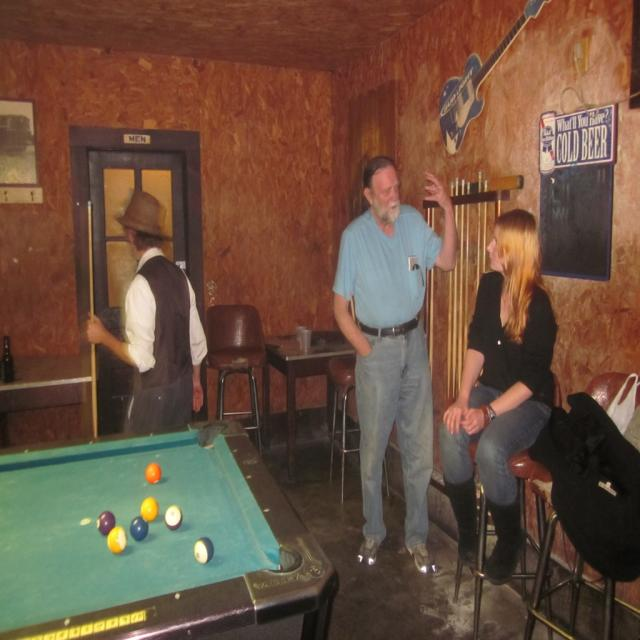Ball: (108, 525, 126, 552), (165, 505, 183, 532), (131, 516, 148, 542), (142, 496, 157, 524), (198, 536, 212, 564), (99, 513, 116, 534), (147, 461, 160, 485)
Billiard table: (0, 413, 338, 639)
